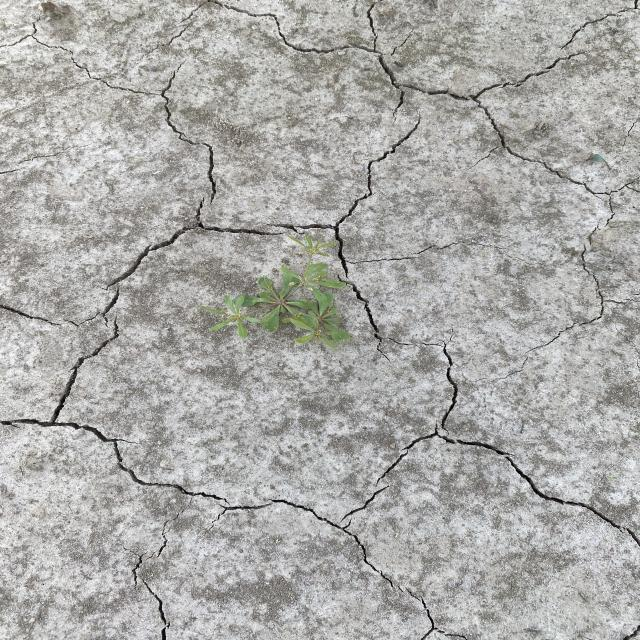Carpetweed: (198, 229, 356, 349)
